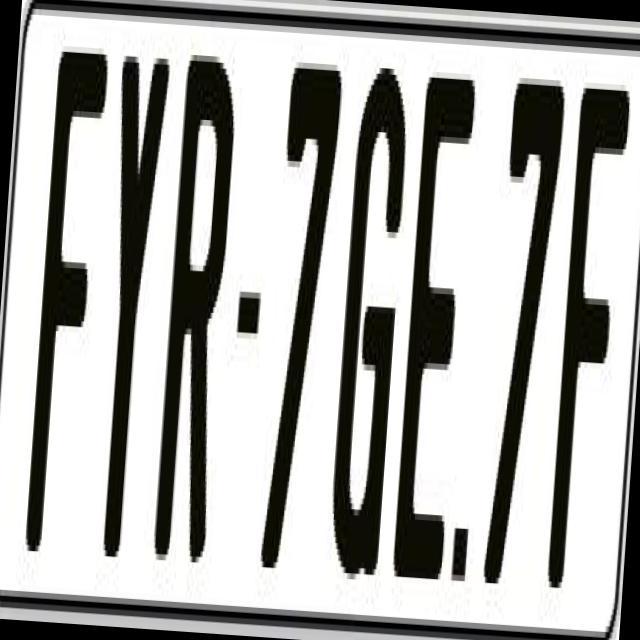7: (478, 66, 570, 586), (252, 68, 340, 582)
E: (386, 77, 476, 602)
F: (23, 46, 109, 572), (544, 70, 630, 572)
G: (326, 61, 421, 586)
R: (152, 42, 242, 580)
Y: (85, 55, 177, 588)
